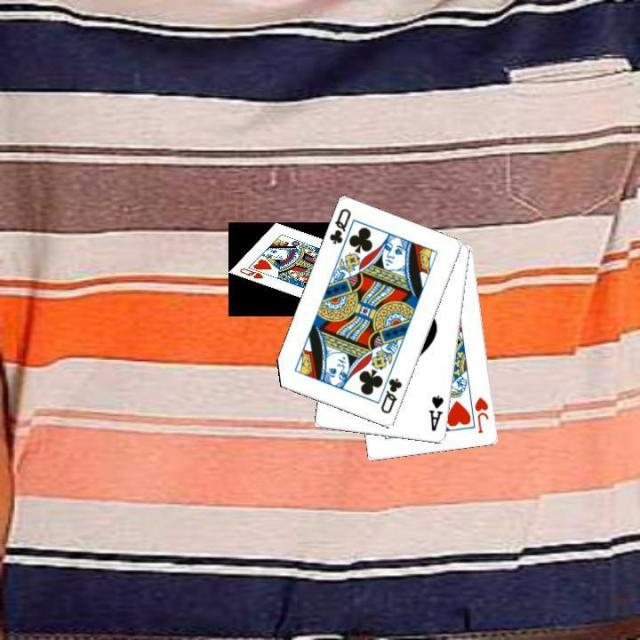AS: (424, 392, 446, 434)
JH: (471, 394, 491, 436)
QC: (325, 204, 353, 247), (376, 374, 404, 416)
